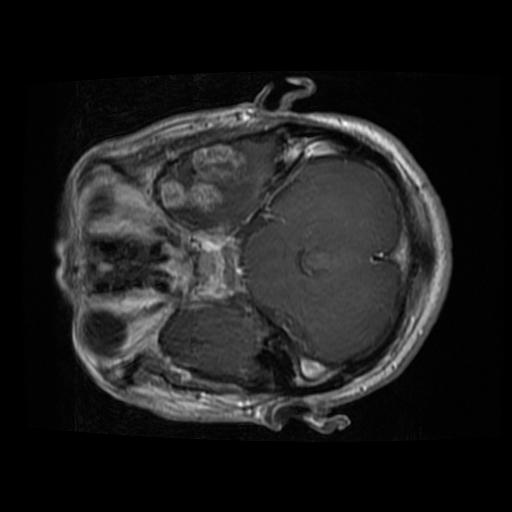glioma: (160, 143, 251, 218)
